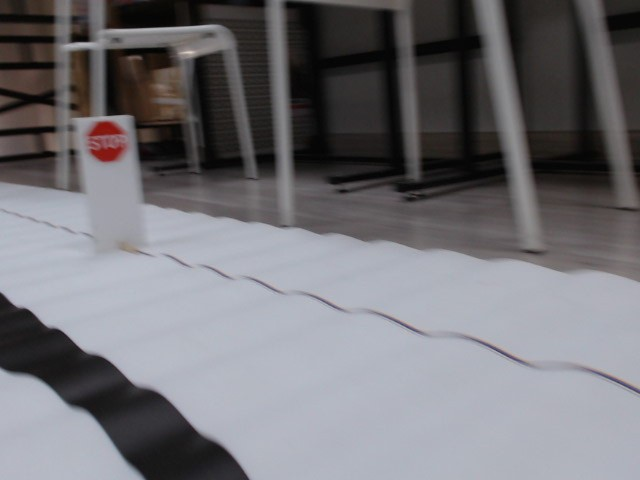Stop: (85, 120, 131, 164)
